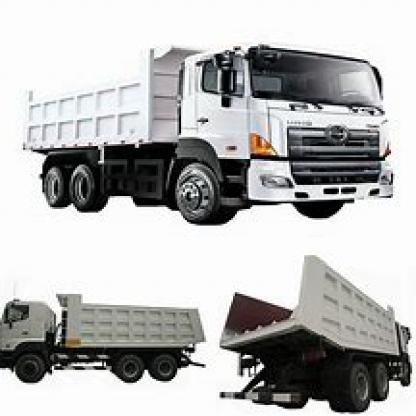dump_truck: (37, 29, 406, 235)
